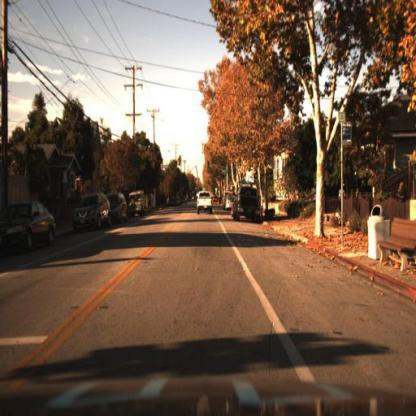car: (2, 202, 58, 253), (68, 186, 114, 239), (229, 182, 267, 224), (71, 194, 112, 230), (194, 184, 215, 222), (127, 188, 151, 220), (112, 189, 130, 228), (109, 193, 129, 223), (128, 191, 149, 216), (223, 191, 235, 215)
